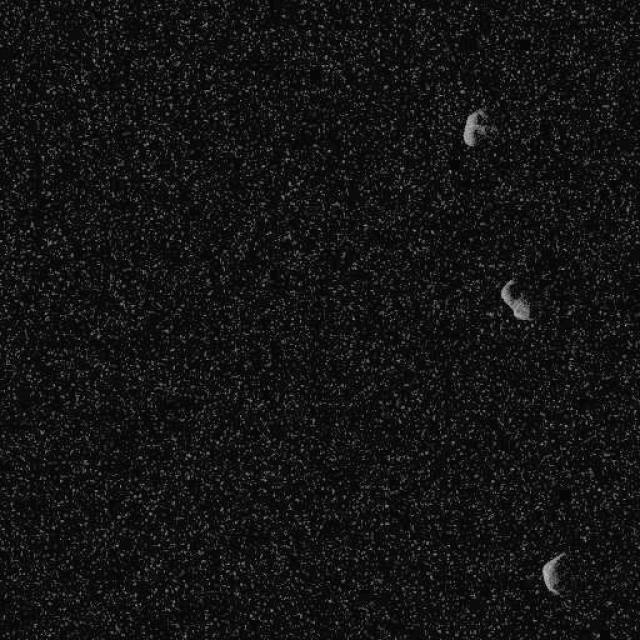D2: (498, 278, 532, 322), (540, 550, 570, 596), (462, 108, 496, 148)
